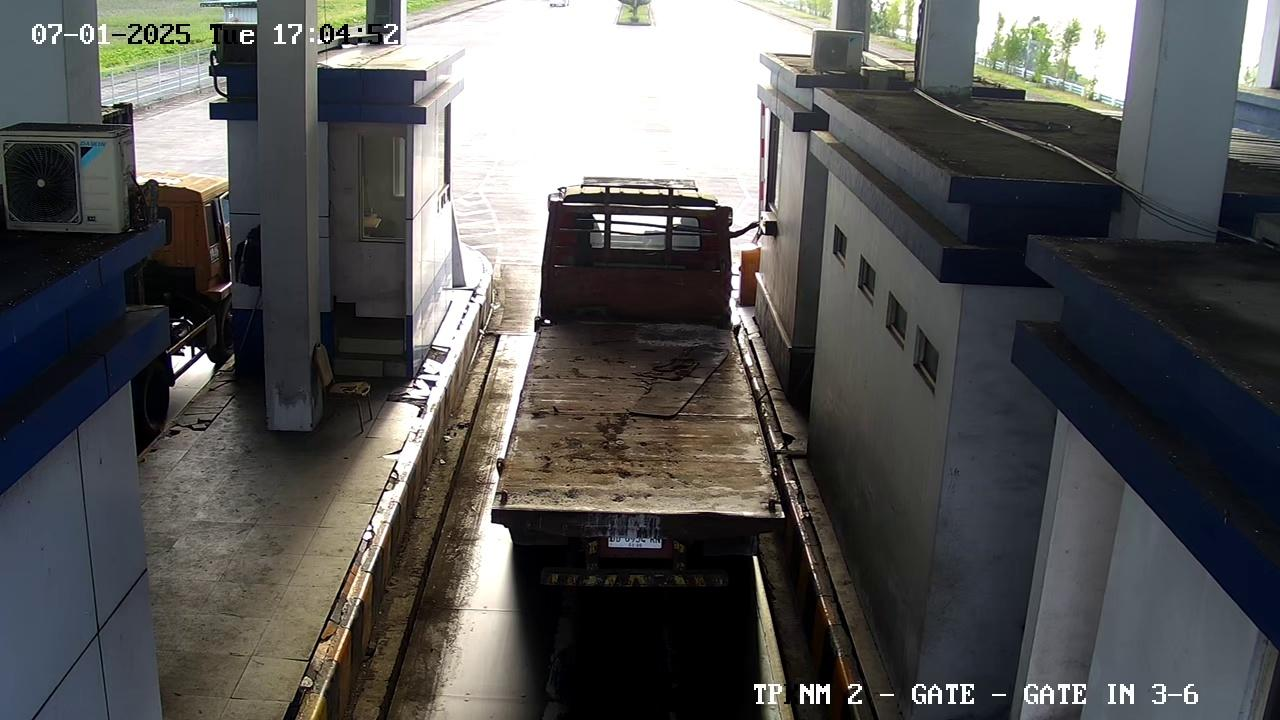plate_number: (600, 515, 667, 558)
